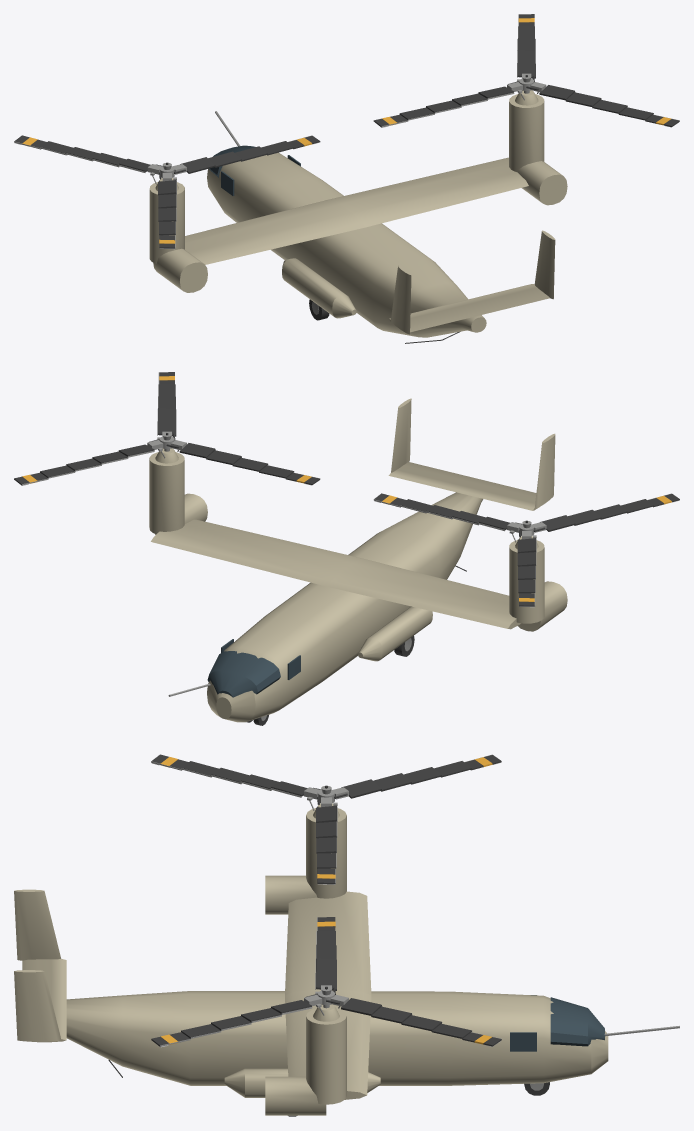
File: usa_heli_mv22.glb
The picture shows the model from 3 angles, top to bottom: view 1: azimuth 30°, elevation 25°; view 2: azimuth 150°, elevation 25°; view 3: azimuth 270°, elevation 25°; orthographic projection. The views are drawn at different scales.
Visible parts, largest first — view 1: body, rotor, trotor; view 2: body, rotor, trotor; view 3: body, rotor, trotor.
Boxes of the visible parts, x1,y1,x2,y2 form: body: [149, 90, 567, 343]; rotor: [14, 135, 320, 249]; trotor: [373, 14, 679, 127]; body: [149, 398, 567, 725]; rotor: [373, 493, 679, 607]; trotor: [14, 372, 320, 485]; body: [14, 803, 679, 1116]; rotor: [151, 754, 501, 884]; trotor: [151, 917, 501, 1047].
Size of the model in its own units: 20.29 by 6.63 by 19.61.
